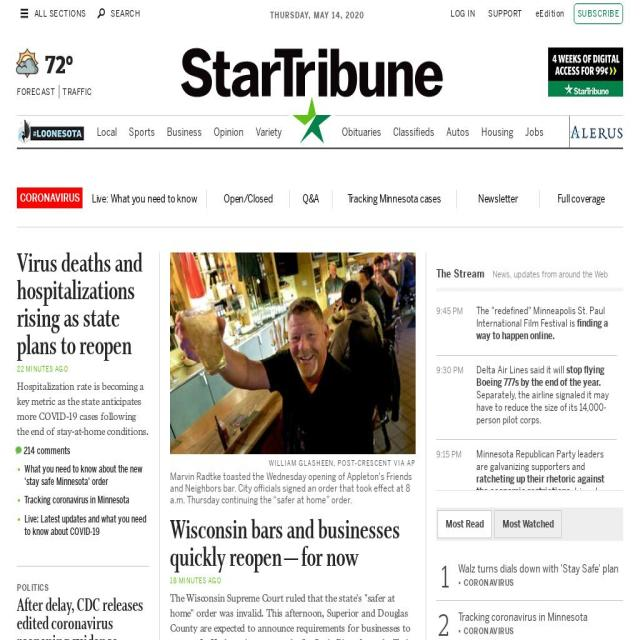button: (170, 252, 416, 458), (180, 48, 443, 98), (17, 0, 94, 28), (495, 510, 561, 538), (388, 116, 440, 147), (336, 116, 386, 147), (93, 0, 148, 28), (438, 510, 491, 538), (161, 116, 207, 147), (17, 584, 149, 594), (476, 116, 518, 147), (484, 0, 530, 28), (208, 116, 249, 147), (531, 0, 572, 28), (123, 116, 160, 147), (250, 116, 287, 147), (440, 116, 474, 147), (573, 3, 623, 24), (447, 0, 482, 28), (91, 116, 122, 147), (519, 116, 549, 147), (458, 578, 514, 588), (458, 626, 514, 636)
heading: (17, 252, 149, 362), (170, 519, 416, 575), (16, 596, 149, 640)
iframe: (17, 187, 623, 208), (548, 48, 623, 98), (16, 116, 86, 147), (569, 116, 623, 149)
image: (170, 252, 416, 454), (288, 116, 335, 147), (13, 47, 41, 85)
link: (476, 558, 614, 582), (476, 364, 604, 389), (24, 512, 147, 538), (476, 318, 608, 342), (24, 462, 144, 488), (476, 474, 604, 498), (458, 562, 620, 575), (458, 610, 588, 623), (24, 493, 130, 506), (45, 50, 73, 79), (24, 444, 70, 457), (17, 86, 55, 98), (62, 86, 92, 98)
text: (170, 591, 416, 640), (17, 149, 623, 166), (170, 471, 416, 507), (17, 378, 149, 439), (476, 570, 603, 620), (476, 389, 609, 427), (476, 532, 609, 570), (476, 448, 604, 474), (476, 305, 605, 330), (476, 486, 604, 511), (170, 576, 416, 586), (170, 459, 416, 468), (487, 266, 608, 280), (17, 364, 149, 374), (476, 364, 566, 377), (270, 11, 364, 21), (502, 518, 554, 530), (436, 268, 487, 280), (458, 578, 515, 588), (458, 626, 515, 636), (436, 364, 474, 378), (436, 448, 474, 462), (436, 532, 474, 546), (392, 126, 434, 138), (436, 305, 474, 318), (341, 126, 381, 138), (446, 518, 484, 530), (166, 126, 202, 138), (481, 126, 513, 138), (213, 126, 244, 138), (128, 126, 155, 138), (255, 126, 282, 138), (446, 126, 470, 138), (96, 126, 117, 138), (524, 126, 544, 138)
